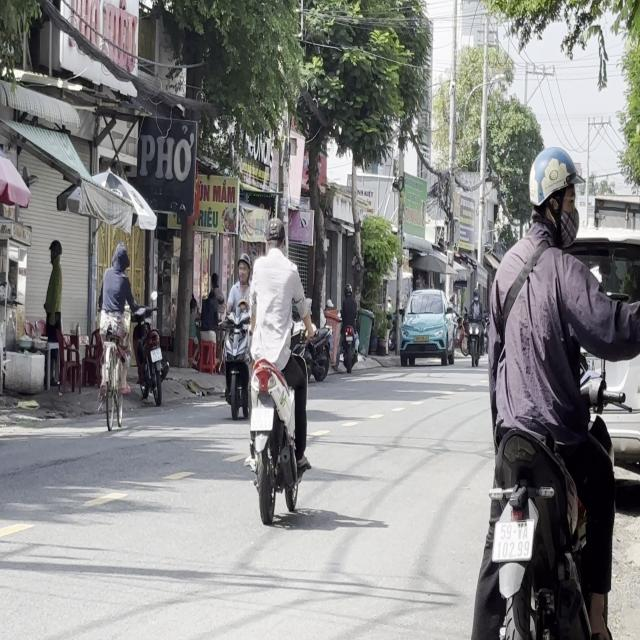helmet: (528, 145, 580, 238)
licenseplate: (468, 138, 627, 635), (243, 212, 314, 522)
motorcyclist: (263, 216, 286, 254)
nohelmet: (492, 520, 532, 560), (250, 406, 273, 431)
